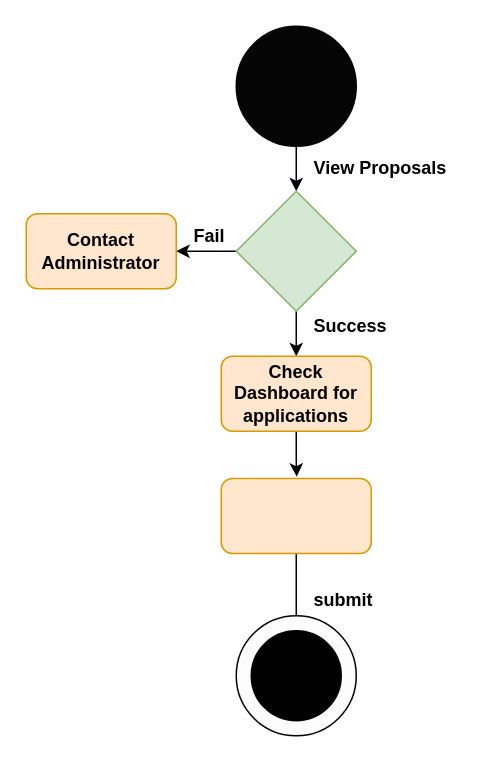
This 488x762 diagram has some shape labels left out. The shapes that lost their labels are listed below. From the top down, each one's centre as x and y in pixels, then its label:
the point at 295,250: LOGIN
the point at 295,515: Read and write review
